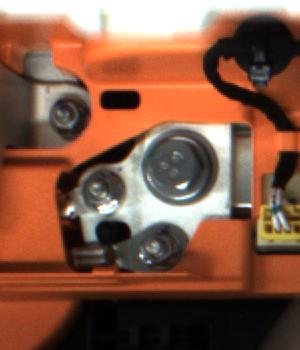nut_b: (140, 120, 223, 208)
